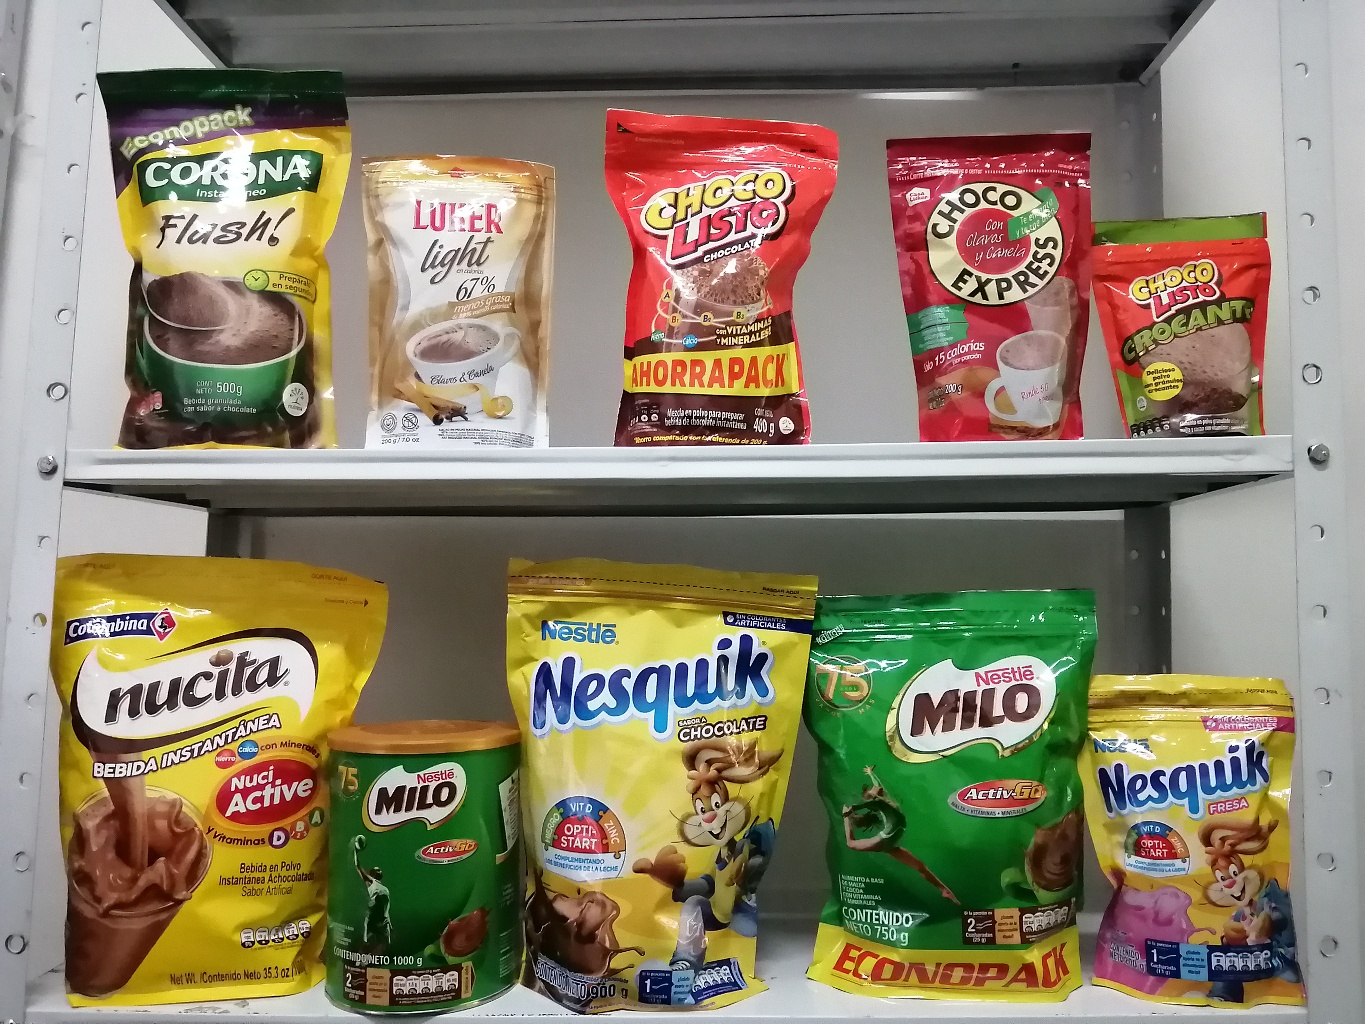COL0170102DYP10000: (1097, 195, 1266, 433)
COL0170103DYP40000: (610, 103, 840, 442)
COL0170305DYP20000: (1081, 664, 1305, 1010)
